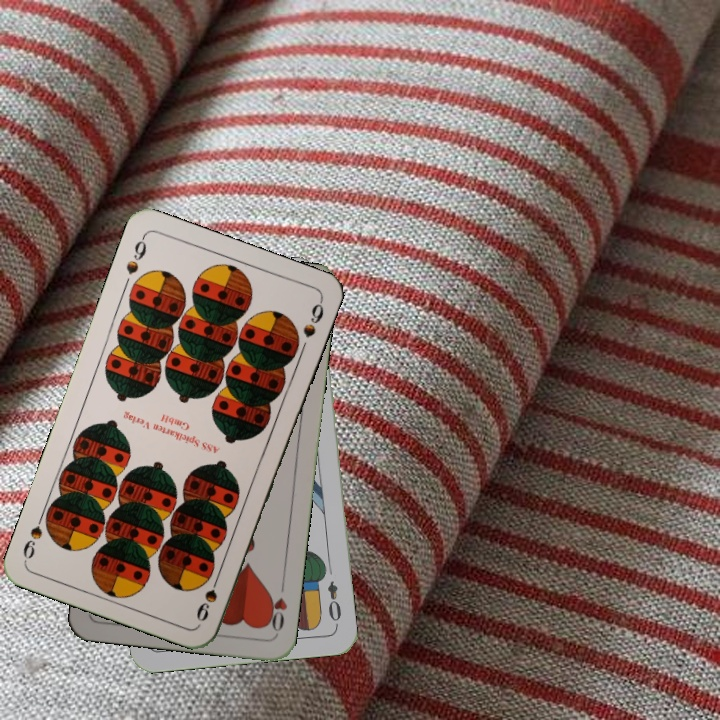EO: (324, 577, 344, 629)
HO: (262, 577, 290, 636)
S9: (192, 568, 223, 624), (122, 232, 149, 278)
